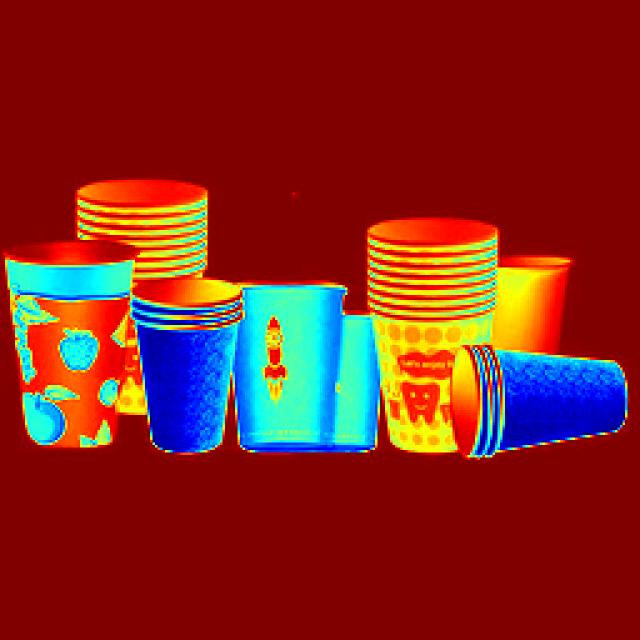Paper Cups: (5, 241, 143, 459), (370, 200, 478, 456), (116, 268, 248, 462), (459, 328, 640, 450), (240, 270, 340, 460), (77, 183, 224, 275)
